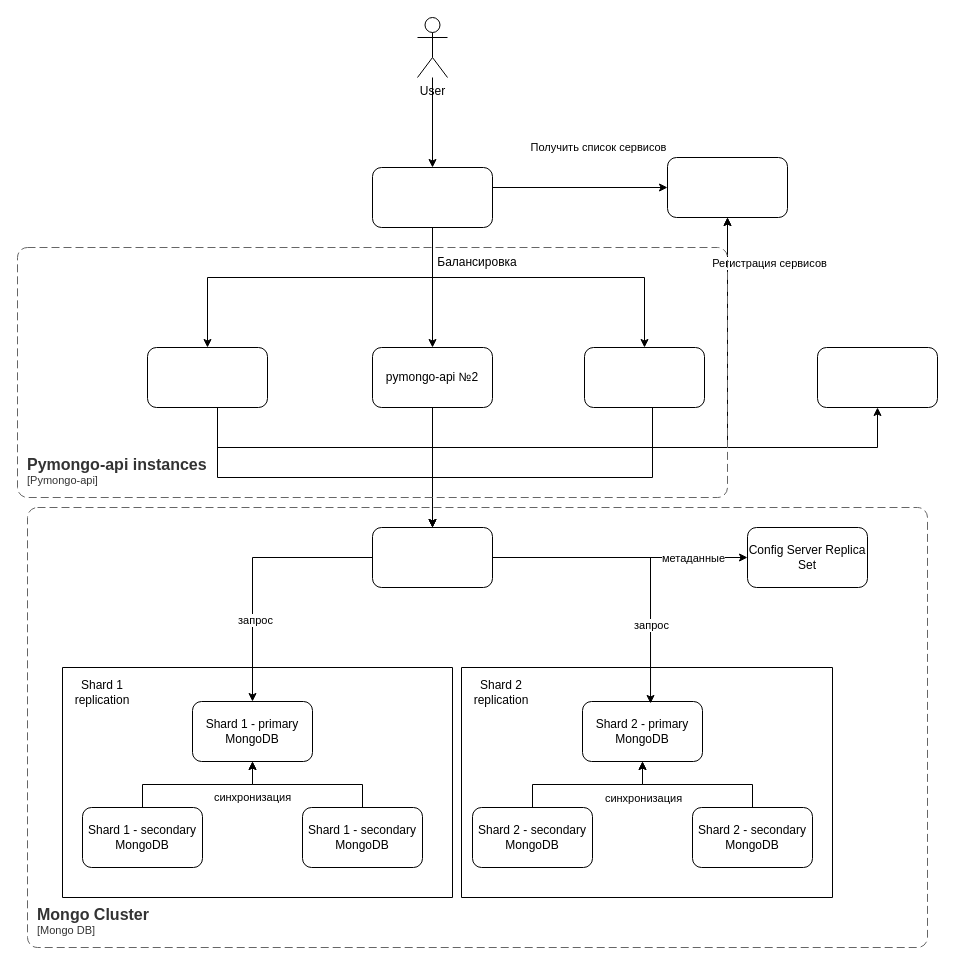
Image size: 955x965. Some labels were removed from this diagram. Here are the shapes that lost their labels. From the top down, the centre of each, then its label:
At point (432, 197): "APISIX Gateway".
At point (727, 187): "Consul".
At point (207, 377): "pymongo-api №1".
At point (644, 377): "pymongo-api №3".
At point (877, 377): "Redis".
At point (432, 557): "Mongos router/query".
